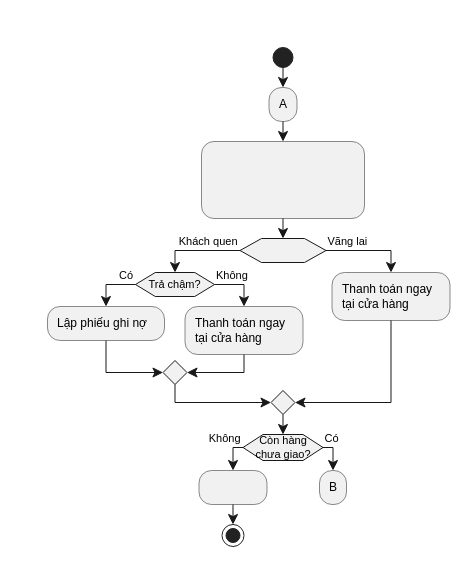
This 467x564 diagram has some shape labels left out. The shapes that lost their labels are listed below. From the top down, each one's box as (x1, y1, x2, y2) in pixels, then its label:
(201, 141, 364, 218): Giao ngay phần hàng có sẵn trừ tồn kho, ghi số lượng đã giao
(239, 238, 326, 262): Loại khách?
(198, 470, 267, 504): Kết thúc
